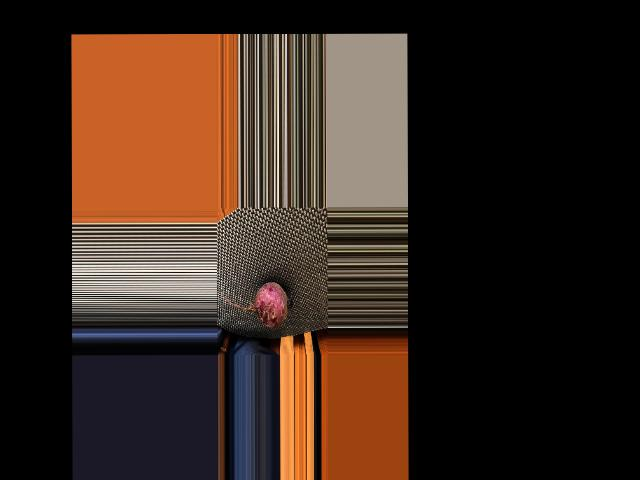beet: (222, 282, 293, 328)
